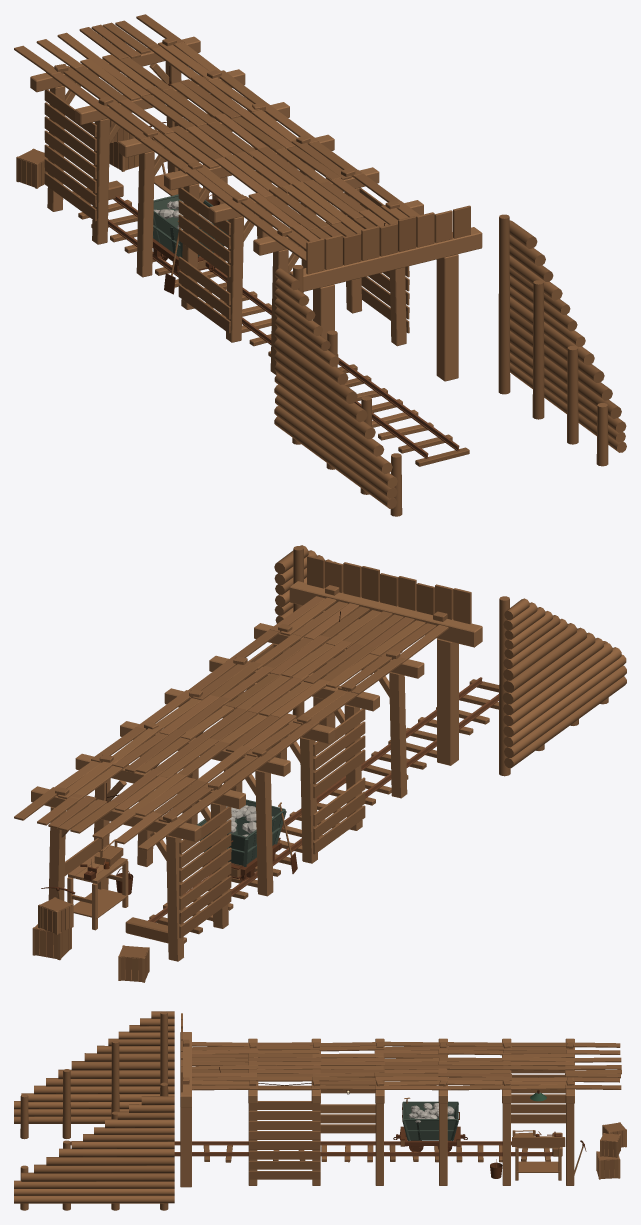
The model's file is mine.glb.
3 views of the same model, one above another, from view 1: azimuth 30°, elevation 25°; view 2: azimuth 150°, elevation 25°; view 3: azimuth 270°, elevation 25° (orthographic). The views are drawn at different scales.
Visible parts, largest first — view 1: mine_wood, mine_rust, mine_paint; view 2: mine_wood, mine_rust, mine_paint; view 3: mine_wood, mine_rust, mine_paint, mine_stone.
Boxes of the visible parts, x1=… form: mine_wood: x1=14, y1=14, x2=626, y2=516; mine_rust: x1=108, y1=66, x2=459, y2=458; mine_paint: x1=153, y1=194, x2=228, y2=257; mine_wood: x1=14, y1=545, x2=626, y2=982; mine_rust: x1=41, y1=611, x2=498, y2=922; mine_paint: x1=197, y1=799, x2=286, y2=866; mine_wood: x1=14, y1=1011, x2=626, y2=1210; mine_rust: x1=70, y1=1067, x2=586, y2=1178; mine_paint: x1=402, y1=1101, x2=458, y2=1141; mine_stone: x1=409, y1=1103, x2=454, y2=1122.
Size of what is drawn, in the model's own units: 4.67 by 3.43 by 14.49.
